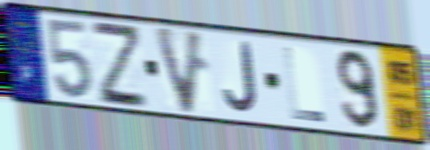5: (44, 18, 95, 103)
9: (335, 47, 381, 133)
J: (221, 40, 261, 116)
L: (281, 44, 329, 125)
V: (151, 23, 208, 118)
Z: (88, 17, 152, 111)
